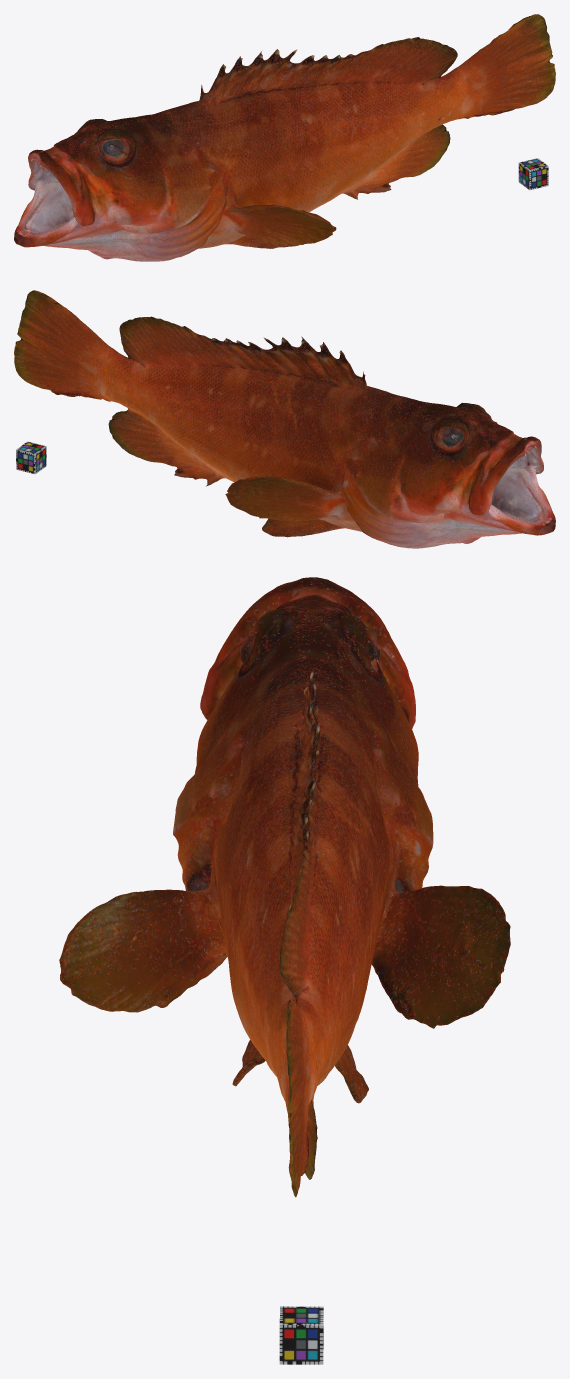
File: blacktip_grouper.glb
The picture shows the model from 3 angles, top to bottom: view 1: azimuth 30°, elevation 25°; view 2: azimuth 150°, elevation 25°; view 3: azimuth 270°, elevation 25°; orthographic projection. The views are drawn at different scales.
Parts seen in each view (by area): view 1: Q11652-1all-2_5, Cube_2; view 2: Q11652-1all-2_5, Cube_2; view 3: Q11652-1all-2_5, Cube_2.
Part boxes in pixels (x1,y1,x2,y2): Q11652-1all-2_5: (14,14,555,261); Cube_2: (518,158,548,190); Q11652-1all-2_5: (14,290,555,548); Cube_2: (16,441,46,474); Q11652-1all-2_5: (59,577,510,1197); Cube_2: (279,1306,323,1364).
Bounding box in the file's own units: 11.91 × 4.18 × 4.34.
Materials: 4 (4 with a texture image).
